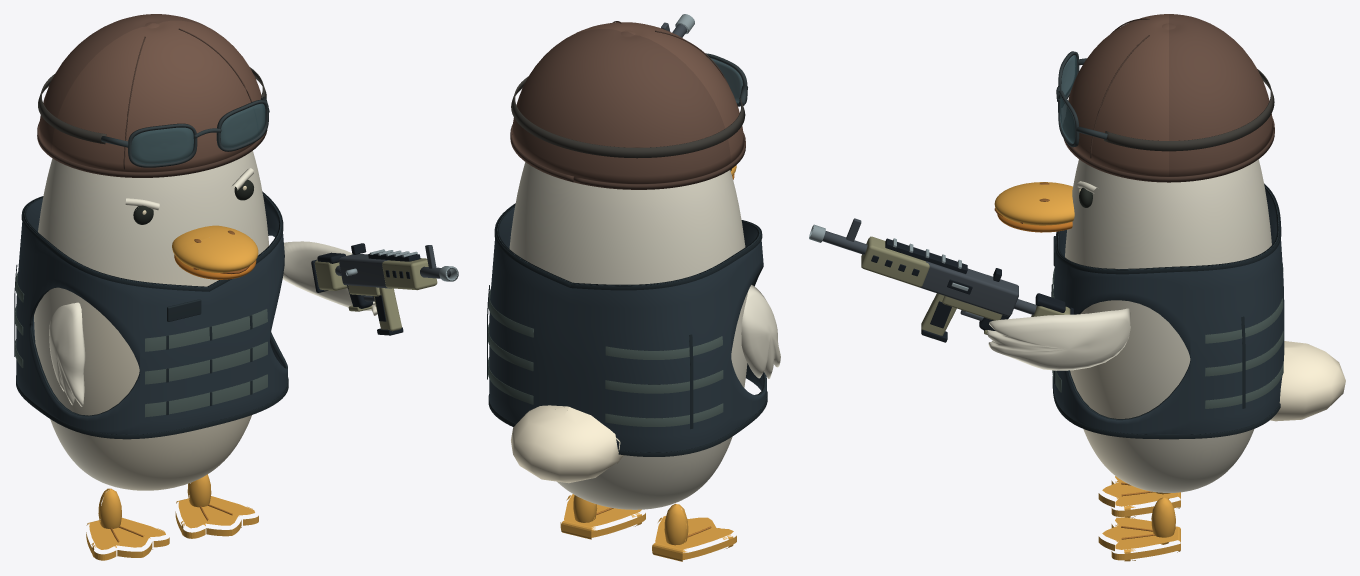
Rendered from fitted-species-goose-aim_up-preview.glb.
3 renders of one model, left to right at view 1: azimuth 30°, elevation 25°; view 2: azimuth 150°, elevation 25°; view 3: azimuth 270°, elevation 25°, orthographic. The views are drawn at different scales.
Parts seen in each view (by area): view 1: goose_aim_up_after_goose_vest_refined_mesh, goose_aim_up_after_goose_torso_mesh, goose_aim_up_after_goose_face_aviator_cap_mesh, goose_aim_up_after_goose_face_raised_goggles_mesh, goose_aim_up_after_goose_beak_mesh, goose_aim_up_after_prop_m4_m4 painted furniture, goose_aim_up_after_goose_leftArm_mesh, goose_aim_up_after_goose_leftFoot_mesh, goose_aim_up_after_goose_rightFoot_mesh, goose_aim_up_after_goose_rightArm_mesh, goose_aim_up_after_prop_m4_Cerakote graphite, goose_aim_up_after_prop_m4_Recesses and rubber (+1 smaller); view 2: goose_aim_up_after_goose_vest_refined_mesh, goose_aim_up_after_goose_face_aviator_cap_mesh, goose_aim_up_after_goose_torso_mesh, goose_aim_up_after_goose_tail_mesh, goose_aim_up_after_goose_face_raised_goggles_mesh, goose_aim_up_after_goose_leftFoot_mesh, goose_aim_up_after_goose_leftArm_mesh, goose_aim_up_after_goose_rightFoot_mesh; view 3: goose_aim_up_after_goose_torso_mesh, goose_aim_up_after_goose_vest_refined_mesh, goose_aim_up_after_goose_face_aviator_cap_mesh, goose_aim_up_after_goose_rightArm_mesh, goose_aim_up_after_goose_tail_mesh, goose_aim_up_after_goose_face_raised_goggles_mesh, goose_aim_up_after_prop_m4_Cerakote graphite, goose_aim_up_after_goose_beak_mesh, goose_aim_up_after_prop_m4_m4 painted furniture, goose_aim_up_after_goose_rightFoot_mesh, goose_aim_up_after_prop_m4_Recesses and rubber, goose_aim_up_after_goose_leftFoot_mesh.
Boxes of the visible parts, bbox=[...] form: goose_aim_up_after_goose_vest_refined_mesh: bbox=[14, 191, 288, 439]; goose_aim_up_after_goose_torso_mesh: bbox=[34, 151, 268, 490]; goose_aim_up_after_goose_face_aviator_cap_mesh: bbox=[37, 14, 267, 177]; goose_aim_up_after_goose_face_raised_goggles_mesh: bbox=[38, 67, 269, 167]; goose_aim_up_after_goose_beak_mesh: bbox=[172, 225, 258, 279]; goose_aim_up_after_prop_m4_m4 painted furniture: bbox=[314, 258, 437, 331]; goose_aim_up_after_goose_leftArm_mesh: bbox=[49, 302, 85, 406]; goose_aim_up_after_goose_leftFoot_mesh: bbox=[86, 488, 169, 560]; goose_aim_up_after_goose_rightFoot_mesh: bbox=[175, 474, 258, 538]; goose_aim_up_after_goose_rightArm_mesh: bbox=[282, 241, 377, 315]; goose_aim_up_after_prop_m4_Cerakote graphite: bbox=[335, 245, 450, 301]; goose_aim_up_after_prop_m4_Recesses and rubber: bbox=[311, 243, 420, 335]; goose_aim_up_after_goose_vest_refined_mesh: bbox=[487, 203, 767, 456]; goose_aim_up_after_goose_face_aviator_cap_mesh: bbox=[510, 21, 745, 189]; goose_aim_up_after_goose_torso_mesh: bbox=[509, 162, 747, 509]; goose_aim_up_after_goose_tail_mesh: bbox=[511, 405, 623, 483]; goose_aim_up_after_goose_face_raised_goggles_mesh: bbox=[511, 53, 747, 158]; goose_aim_up_after_goose_leftFoot_mesh: bbox=[652, 503, 736, 561]; goose_aim_up_after_goose_leftArm_mesh: bbox=[741, 285, 780, 378]; goose_aim_up_after_goose_rightFoot_mesh: bbox=[560, 494, 645, 539]; goose_aim_up_after_goose_torso_mesh: bbox=[1065, 159, 1271, 492]; goose_aim_up_after_goose_vest_refined_mesh: bbox=[1051, 183, 1284, 439]; goose_aim_up_after_goose_face_aviator_cap_mesh: bbox=[1064, 14, 1274, 182]; goose_aim_up_after_goose_rightArm_mesh: bbox=[987, 308, 1130, 370]; goose_aim_up_after_goose_tail_mesh: bbox=[1270, 341, 1345, 421]; goose_aim_up_after_goose_face_raised_goggles_mesh: bbox=[1056, 51, 1274, 151]; goose_aim_up_after_prop_m4_Cerakote graphite: bbox=[822, 218, 1036, 320]; goose_aim_up_after_goose_beak_mesh: bbox=[994, 182, 1074, 232]; goose_aim_up_after_prop_m4_m4 painted furniture: bbox=[861, 236, 1070, 335]; goose_aim_up_after_goose_rightFoot_mesh: bbox=[1098, 497, 1180, 561]; goose_aim_up_after_prop_m4_Recesses and rubber: bbox=[871, 238, 1074, 342]; goose_aim_up_after_goose_leftFoot_mesh: bbox=[1098, 476, 1180, 517].
Size of the model in its own units: 1.21 by 2.15 by 2.09.
